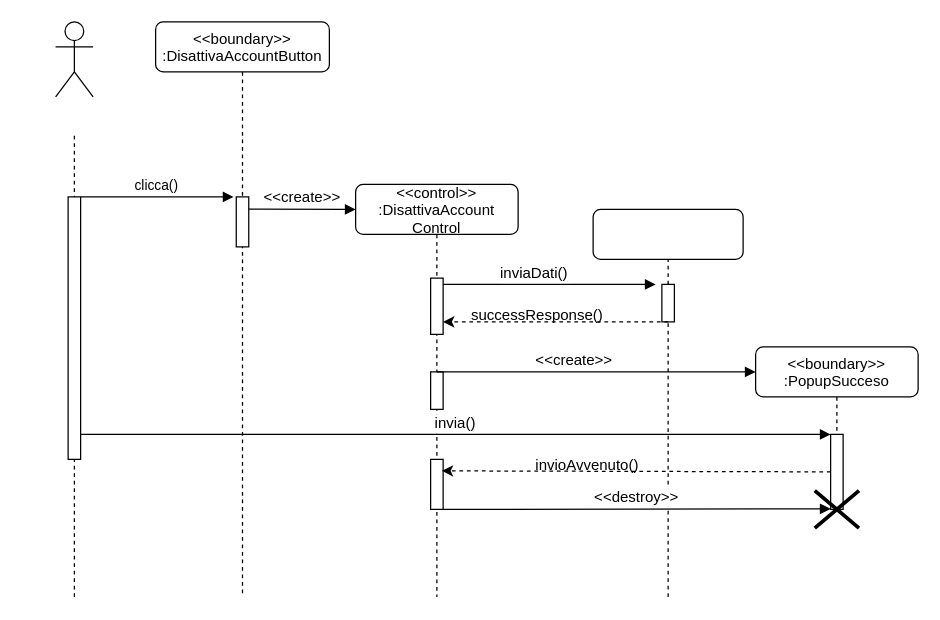
This 940x620 diagram has some shape labels left out. The shapes that lost their labels are listed below. From the top down, each one's centre as x and y in pixels, then its label:
point 73,59: :Amministratore
point 667,233: <<entity>> :Blockchain
